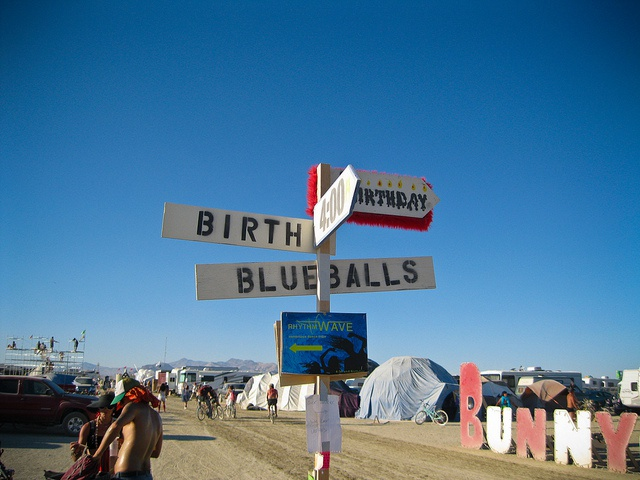non-vehicle: (415, 398, 448, 424), (196, 397, 218, 420), (224, 397, 236, 418), (268, 399, 275, 423)
